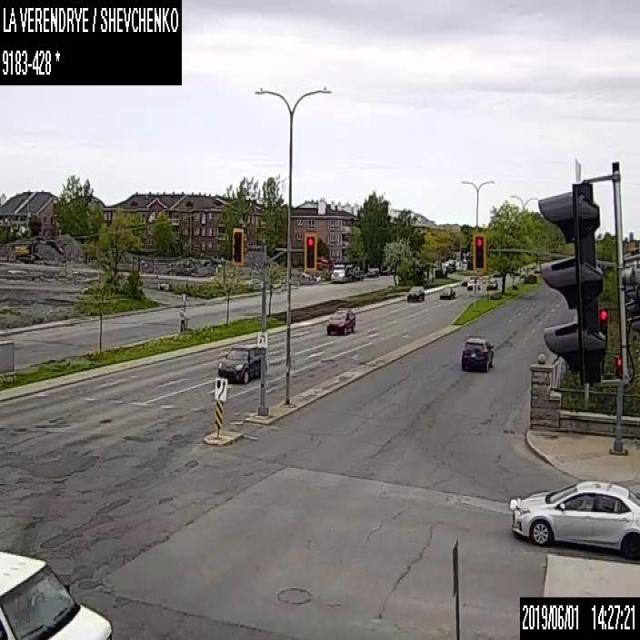pedestrian: (179, 306, 185, 332)
vehicle: (511, 477, 639, 559), (0, 549, 112, 639), (216, 339, 260, 384), (460, 334, 494, 372), (325, 304, 355, 335), (328, 261, 365, 283), (406, 283, 424, 301), (438, 284, 455, 298), (466, 278, 480, 290), (485, 276, 497, 289), (366, 266, 378, 277), (380, 264, 390, 275)
